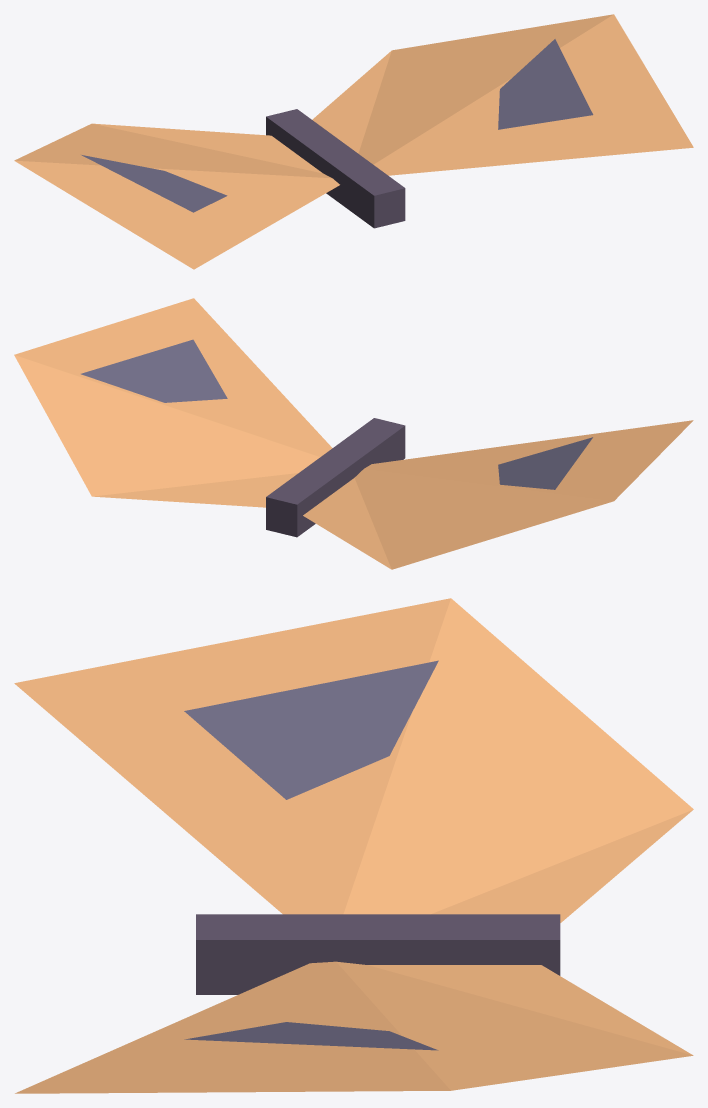
File: butterfly.glb
The picture shows the model from 3 angles, top to bottom: view 1: azimuth 30°, elevation 25°; view 2: azimuth 150°, elevation 25°; view 3: azimuth 270°, elevation 25°; orthographic projection. The views are drawn at different scales.
Parts seen in each view (by area): view 1: wing (×2), wing_mark (×2), body; view 2: wing (×2), wing_mark (×2), body; view 3: wing (×2), wing_mark (×2), body.
Boxes of the visible parts, x1,y1,x2,y2 form: wing (×2): [14, 14, 693, 269]; wing_mark (×2): [81, 39, 593, 212]; body: [266, 109, 405, 228]; wing (×2): [14, 298, 693, 569]; wing_mark (×2): [81, 339, 592, 489]; body: [266, 418, 405, 537]; wing (×2): [14, 598, 693, 1093]; wing_mark (×2): [184, 660, 438, 1050]; body: [196, 914, 560, 994].
Bounding box in the file's own units: 0.48 × 0.0625 × 0.28.
